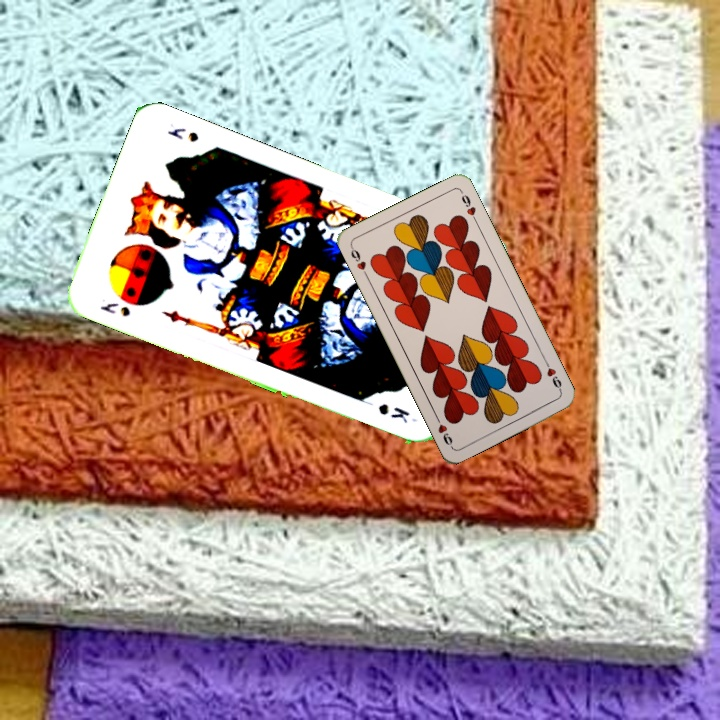H9: (347, 242, 371, 280), (541, 356, 564, 394)
SK: (96, 298, 133, 320)
